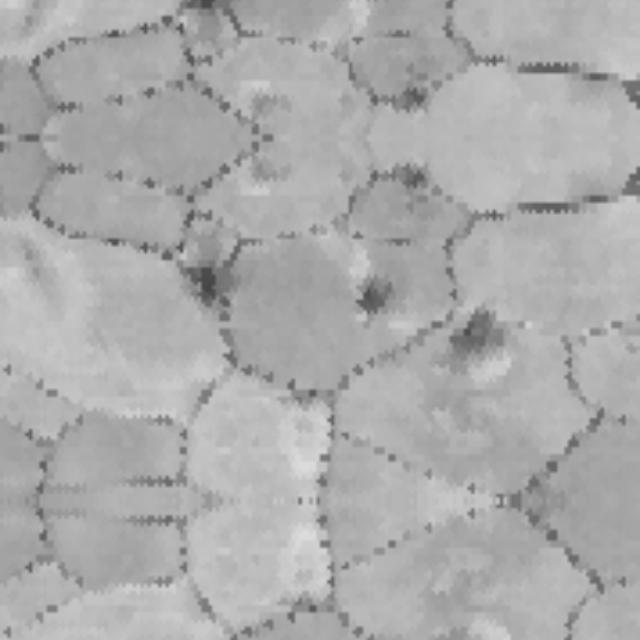good_void: (448, 303, 515, 360), (181, 257, 228, 310), (367, 83, 439, 115), (367, 163, 439, 194), (360, 274, 398, 319), (181, 0, 228, 21)
